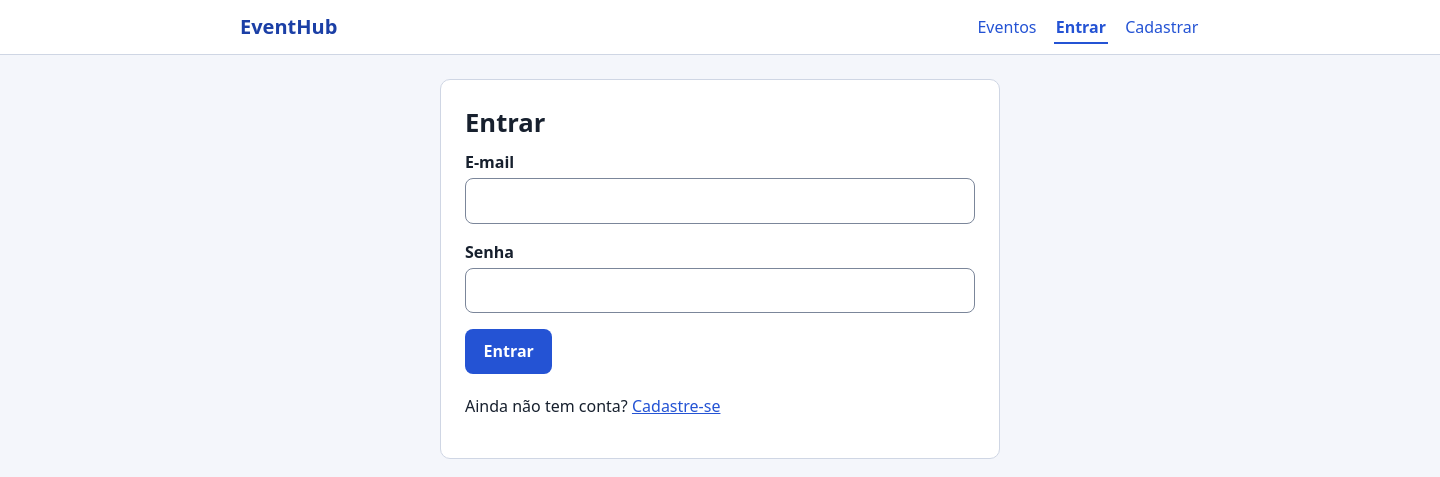
Rotas e guardas (só experiência de navegação; o backend autoriza de fato) › organizador vê o link e acessa a busca
Type "maria@example.com" into the field labelled "E-mail" at (720, 201), box [465, 178, 975, 224]
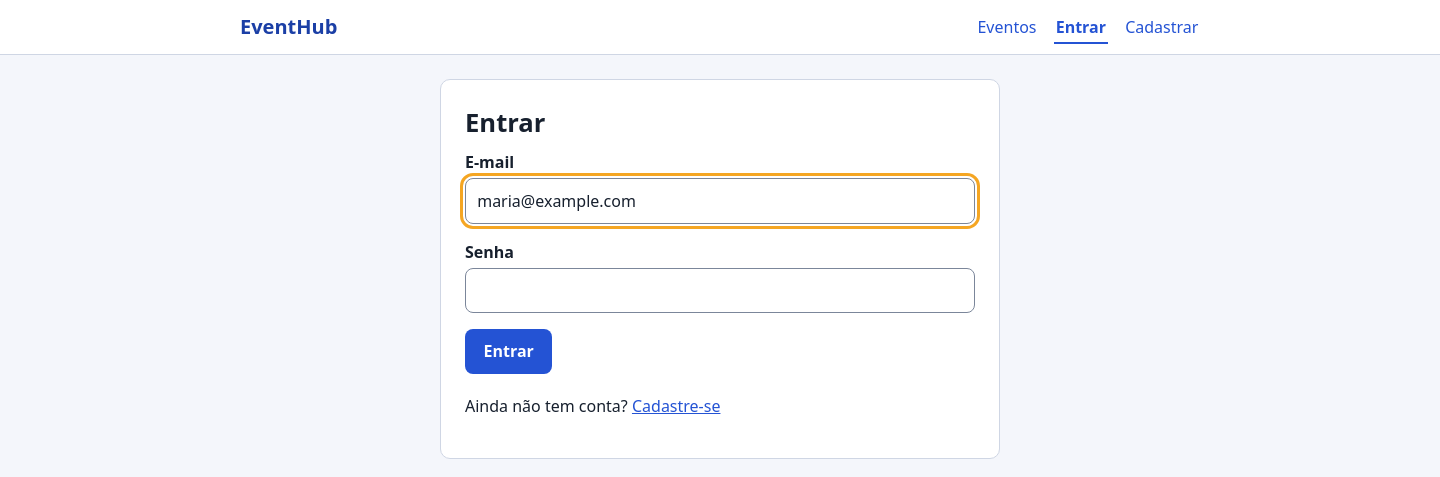
Type "senha-forte-123" into the password field labelled "Senha" at (720, 290), box [465, 268, 975, 313]
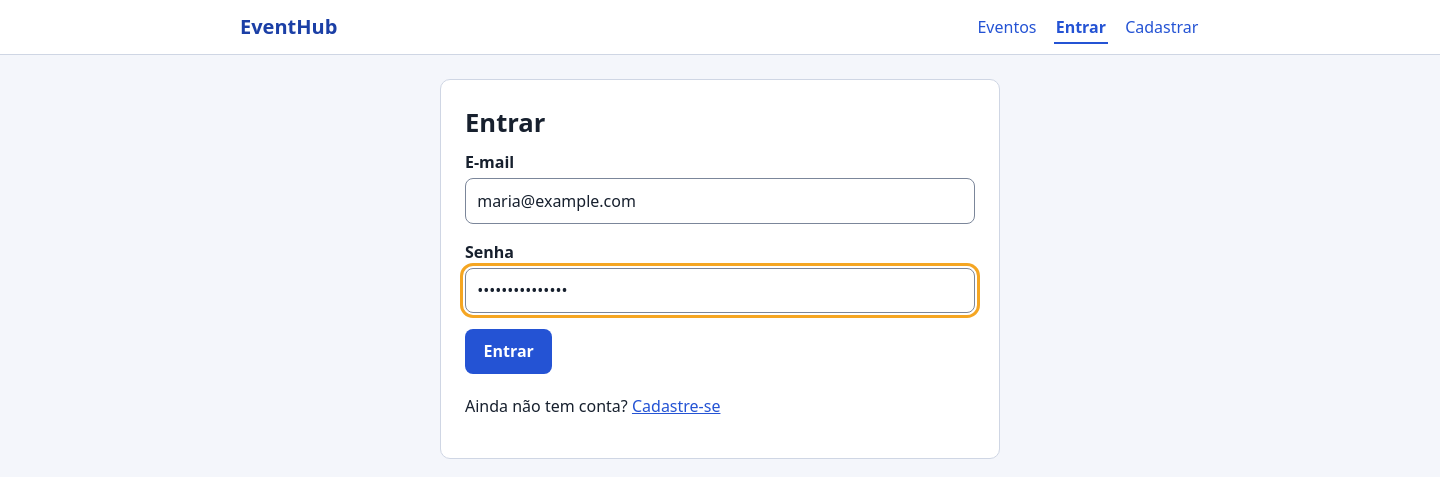
Click the button "Entrar" at (509, 351), box [465, 329, 552, 374]
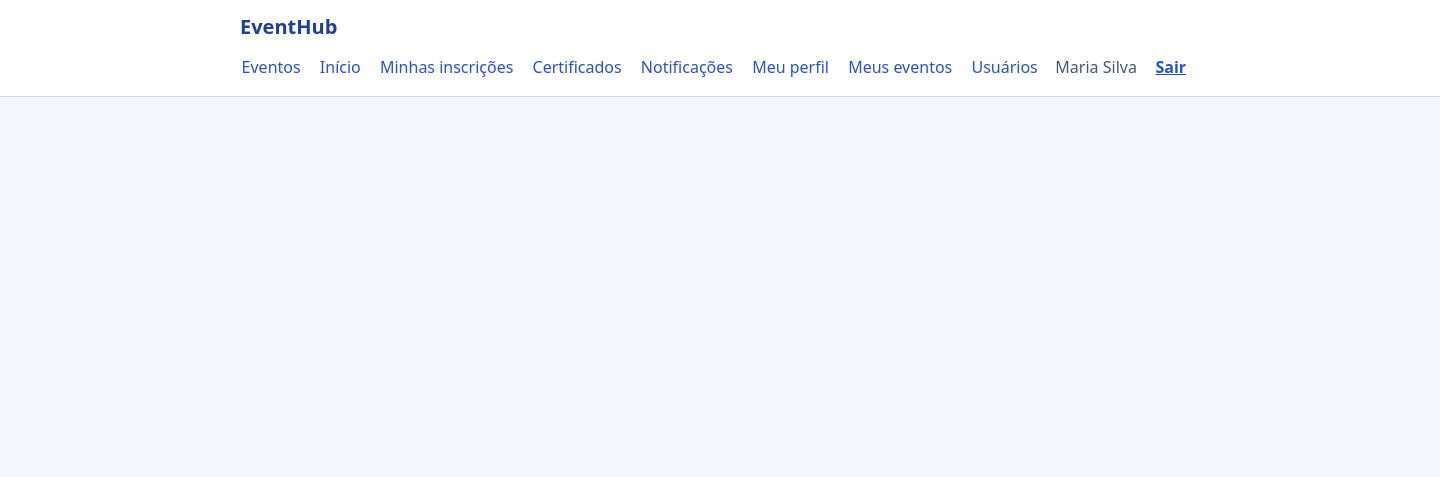
Expected: the link "Usuários" is shown
Click the link "Usuários" at (1005, 67), box [970, 52, 1039, 82]
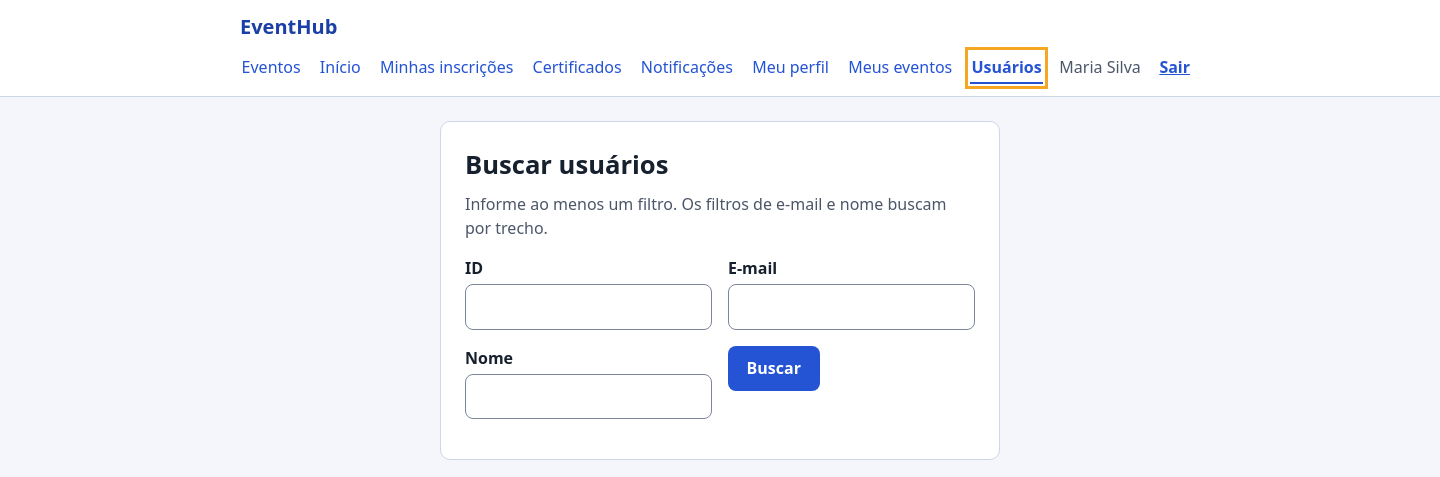
Expected: the heading "Buscar usuários" is shown, [465, 147, 668, 182]
